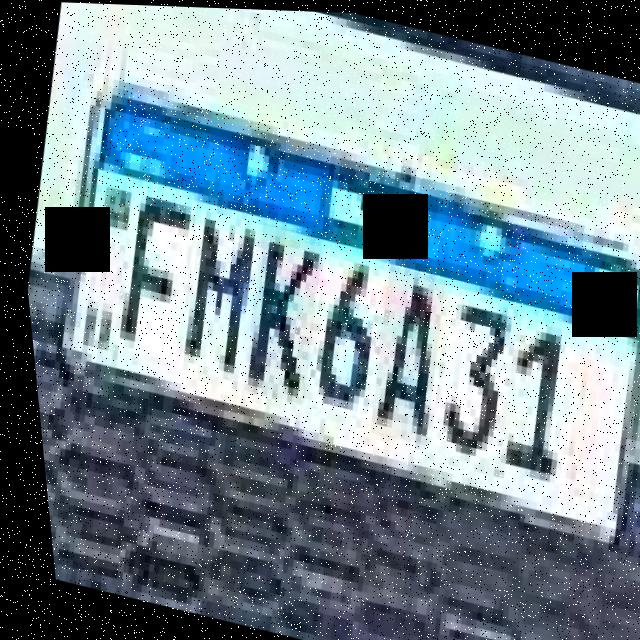1: (481, 311, 589, 491)
3: (412, 282, 521, 458)
6: (289, 242, 395, 418)
A: (348, 262, 453, 445)
F: (97, 178, 204, 362)
K: (223, 220, 331, 403)
M: (159, 199, 269, 381)
